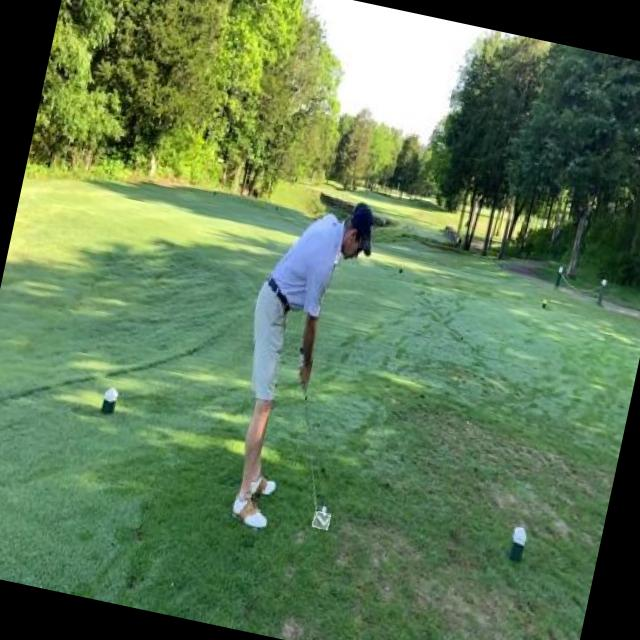club head: (311, 510, 331, 530)
